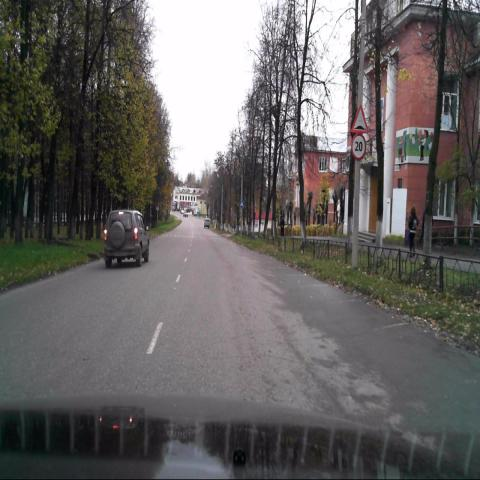1_17: (351, 105, 369, 133)
